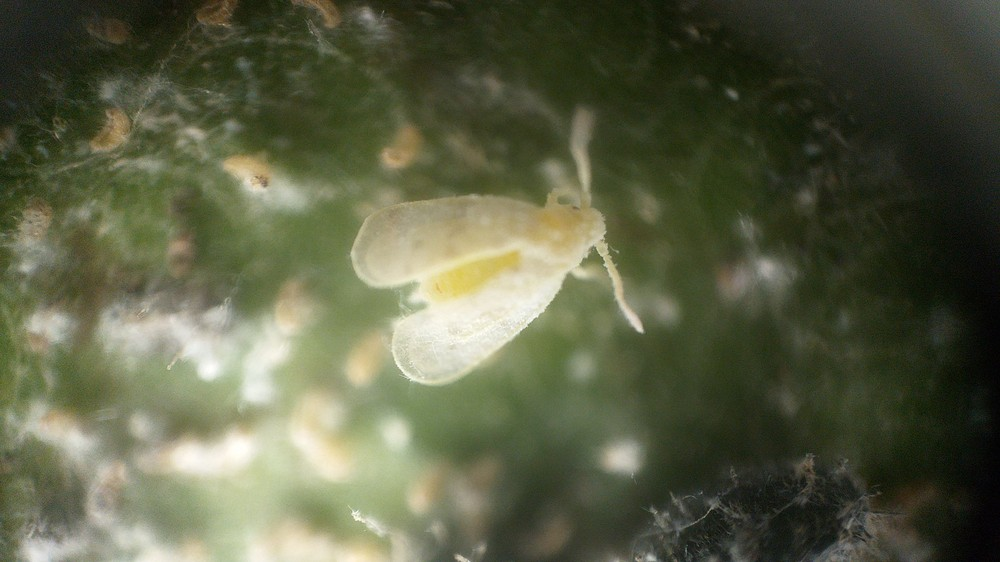Mosca Blanca: (350, 101, 664, 395)
